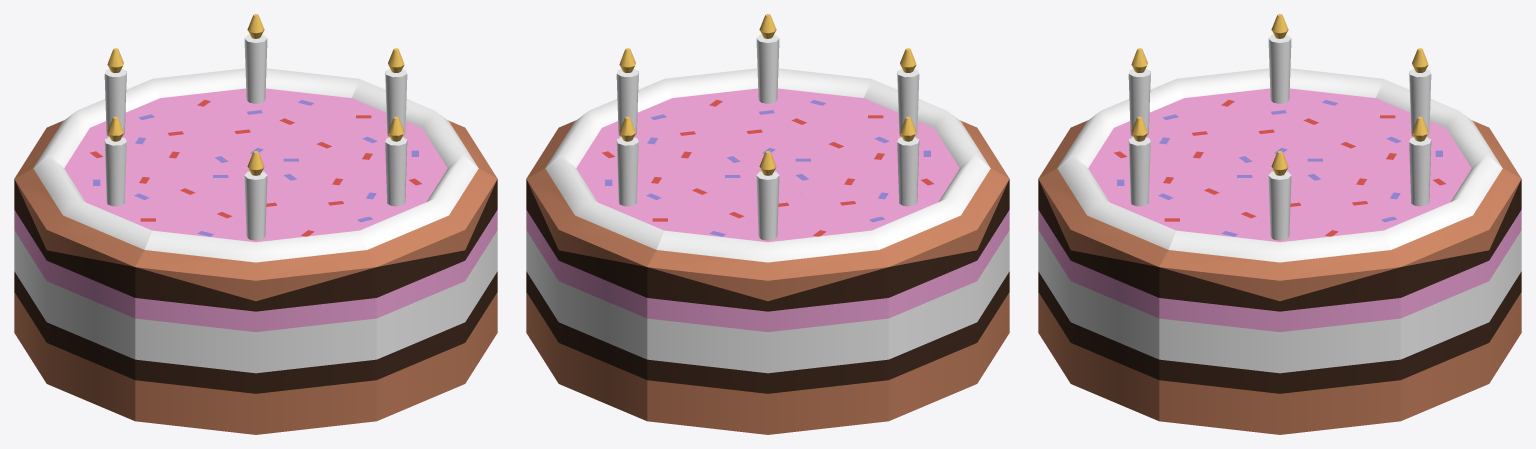
Rendered from Cake_Birthday.glb.
3 views of the same model, side by side, from view 1: azimuth 30°, elevation 25°; view 2: azimuth 150°, elevation 25°; view 3: azimuth 270°, elevation 25° (orthographic).
Parts seen in each view (by area): view 1: cakeBirthday; view 2: cakeBirthday; view 3: cakeBirthday.
Boxes of the visible parts, x1,y1,x2,y2 form: cakeBirthday: [14, 14, 497, 434]; cakeBirthday: [526, 14, 1009, 434]; cakeBirthday: [1038, 14, 1521, 434].
Bounding box in the file's own units: 0.6392 × 0.3638 × 0.6392.
